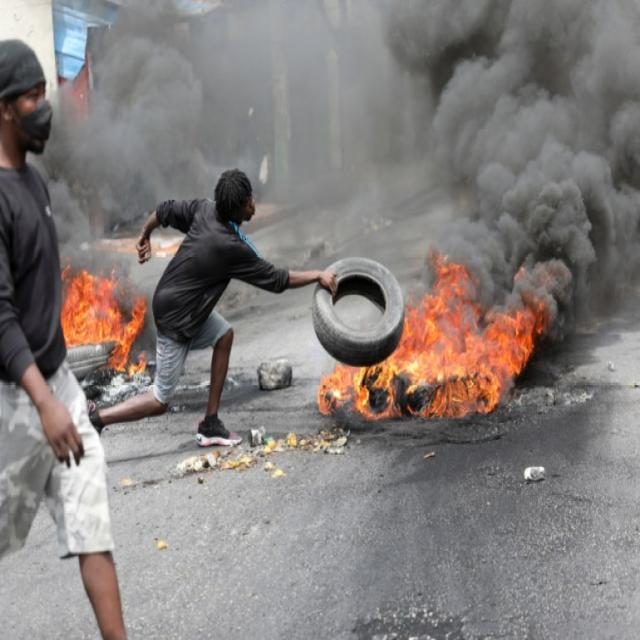fire: (319, 359, 502, 418), (62, 270, 146, 375), (394, 303, 502, 361), (503, 304, 543, 375), (425, 248, 463, 303)
